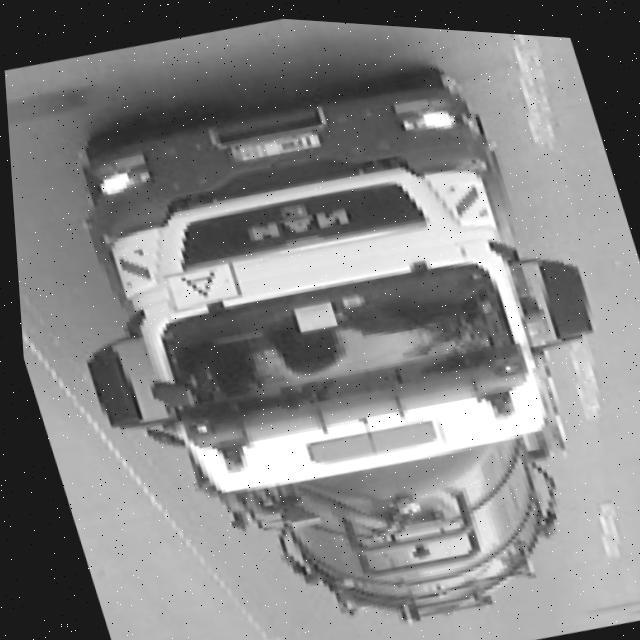truck: (11, 23, 640, 640)
